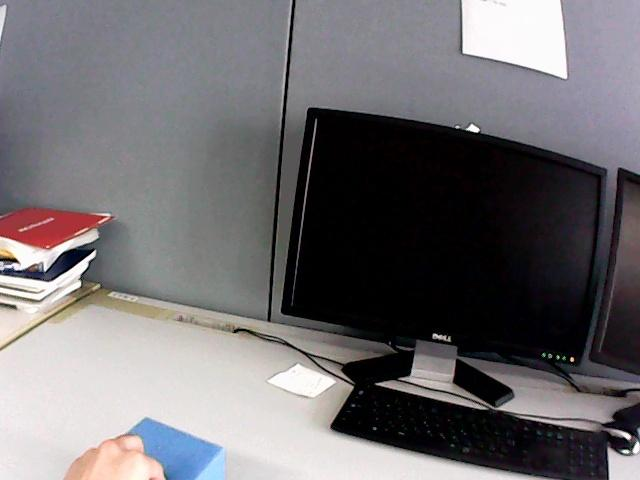blue_block: (129, 418, 224, 479)
